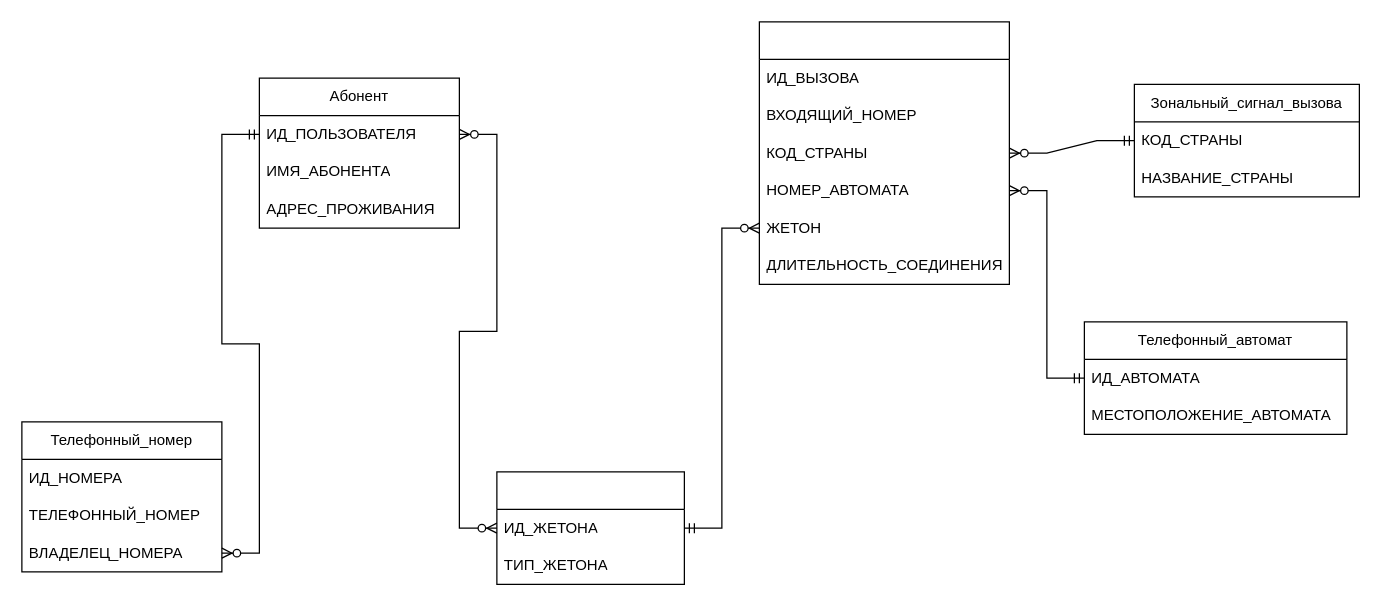
Image size: 1381x606. Some labels were removed from this diagram. Here are the shapes that lost their labels. From the top down, the box of each, then its label:
(758, 21, 1009, 284): Соединение
(496, 471, 684, 584): Кредитный_жетон
